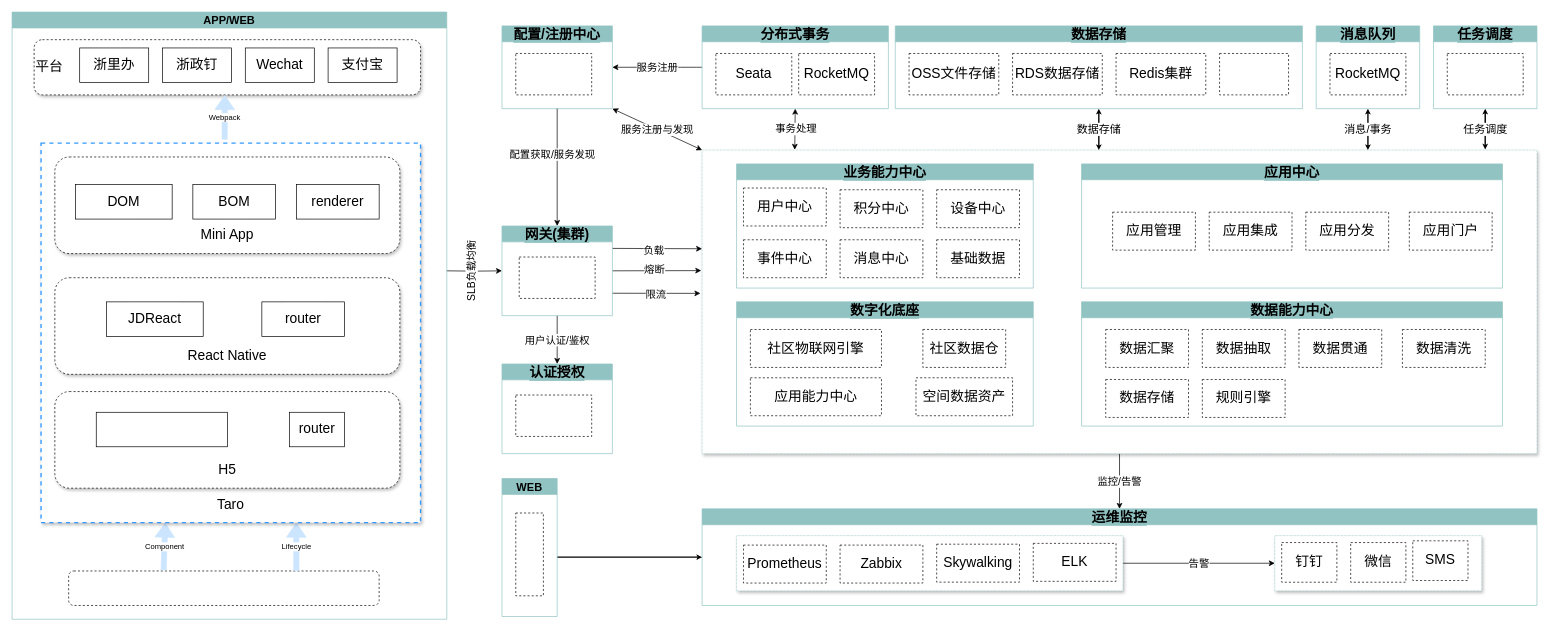
Some shapes in this 1553 by 631 pixel diagram are drawn without their labels. Each missing label, with the centre of its shape:
"ES集群" belongs at (x=1254, y=74).
"Gateway" belongs at (x=557, y=277).
"Nacos" belongs at (x=553, y=74).
"OAuth2" belongs at (x=553, y=415).
"Web Components" belongs at (x=161, y=429).
"XXL-JOB" belongs at (x=1485, y=74).
"未来e家移动端Framework" belongs at (x=223, y=587).
"监控大屏" belongs at (x=529, y=554).
